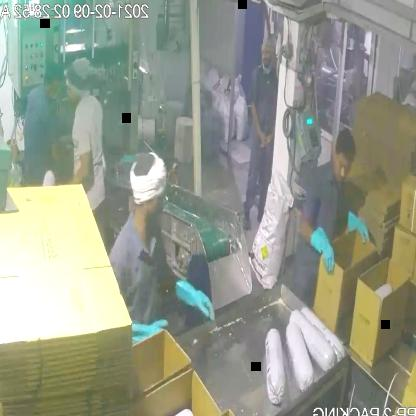glove: (172, 267, 218, 329), (305, 223, 341, 275), (125, 318, 169, 346), (349, 201, 373, 245)
no_glove: (56, 148, 96, 192), (246, 99, 268, 144), (47, 131, 73, 164)
